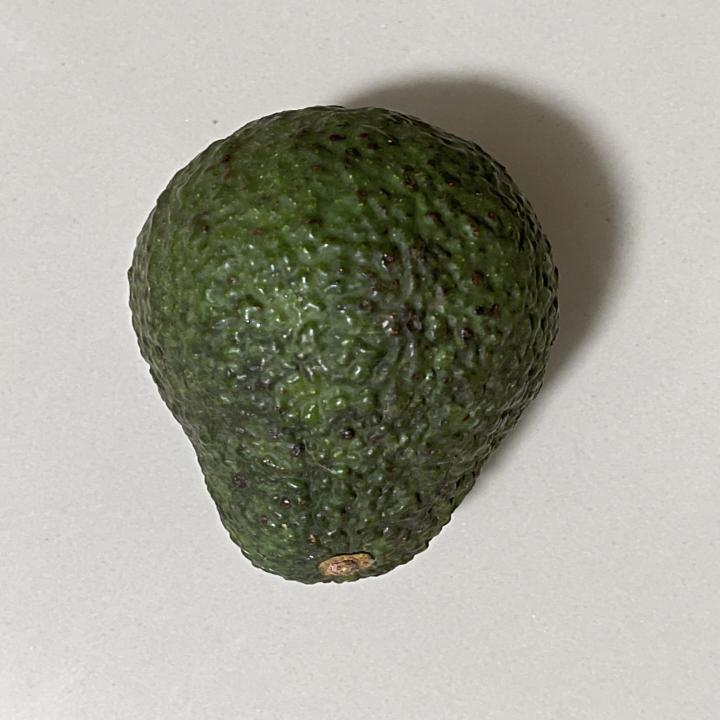Level1: (113, 96, 575, 597)
